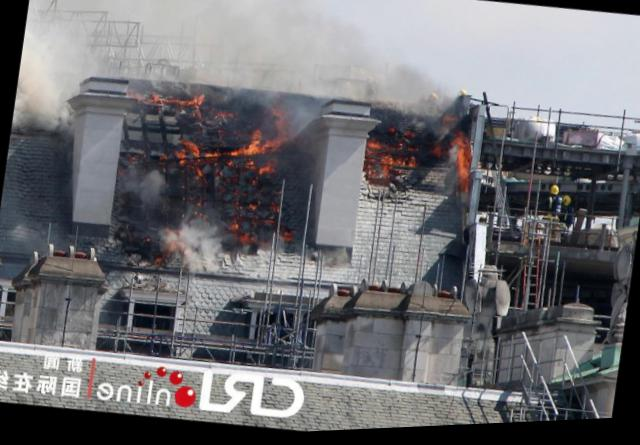fire: (112, 77, 314, 273), (360, 96, 478, 205)
